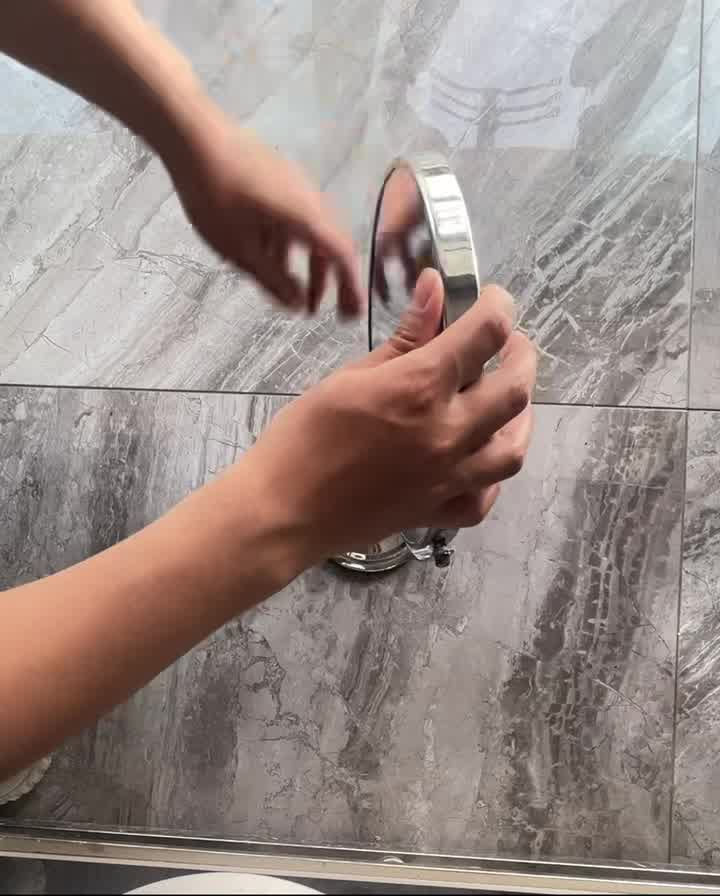mirror: (341, 120, 512, 567)
